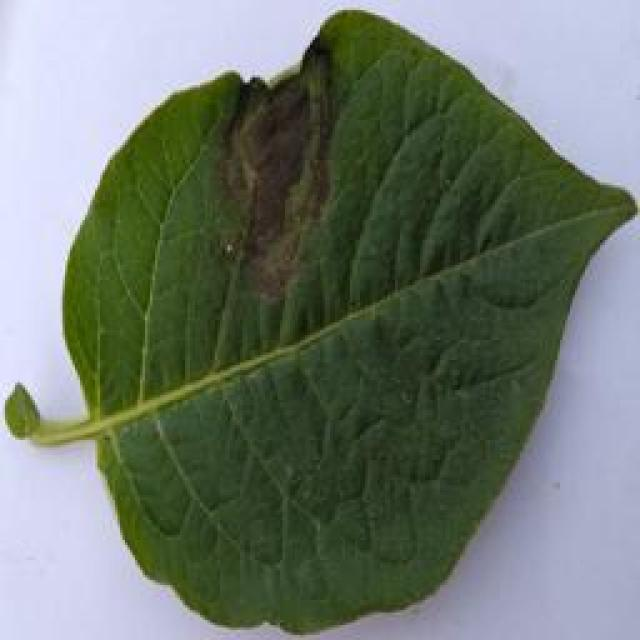Potato_Late_Blight: (19, 14, 628, 630)
